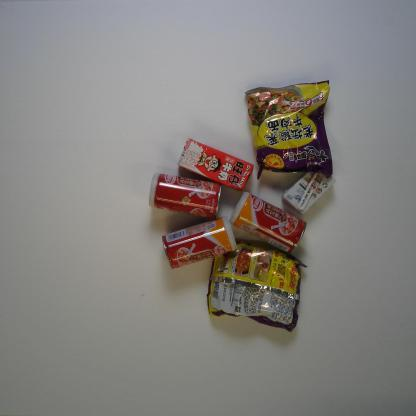Canned Food: (228, 190, 307, 254), (161, 215, 239, 271), (148, 171, 223, 220)
Instant Noodles: (206, 240, 308, 334), (244, 78, 334, 180)
Milk: (176, 137, 254, 192), (280, 170, 338, 216)
